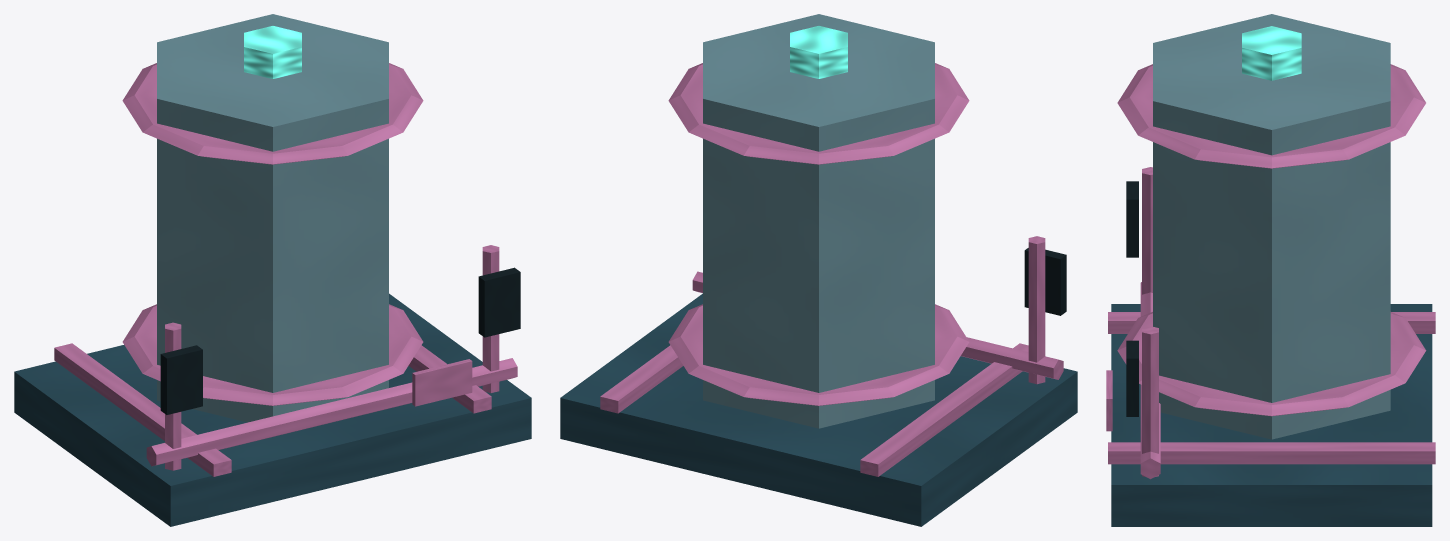
Rendered from atlas100-s069-a04.lod1.glb.
3 views of the same model, side by side, from view 1: azimuth 30°, elevation 25°; view 2: azimuth 150°, elevation 25°; view 3: azimuth 270°, elevation 25° (orthographic). The views are drawn at different scales.
Parts seen in each view (by area): view 1: atlas100-s069-a04:part-003, atlas100-s069-a04:part-000, atlas100-s069-a04:part-005, atlas100-s069-a04:part-004, atlas100-s069-a04:part-011, atlas100-s069-a04:part-001, atlas100-s069-a04:part-006, atlas100-s069-a04:part-008, atlas100-s069-a04:part-010, atlas100-s069-a04:part-012, atlas100-s069-a04:part-009, atlas100-s069-a04:part-007 (+1 smaller); view 2: atlas100-s069-a04:part-003, atlas100-s069-a04:part-000, atlas100-s069-a04:part-004, atlas100-s069-a04:part-005, atlas100-s069-a04:part-001, atlas100-s069-a04:part-006, atlas100-s069-a04:part-007, atlas100-s069-a04:part-002, atlas100-s069-a04:part-011, atlas100-s069-a04:part-008; view 3: atlas100-s069-a04:part-003, atlas100-s069-a04:part-000, atlas100-s069-a04:part-005, atlas100-s069-a04:part-002, atlas100-s069-a04:part-004, atlas100-s069-a04:part-006, atlas100-s069-a04:part-009, atlas100-s069-a04:part-007, atlas100-s069-a04:part-001, atlas100-s069-a04:part-011, atlas100-s069-a04:part-008, atlas100-s069-a04:part-010 (+1 smaller).
Boxes of the visible parts, bbox=[...] form: atlas100-s069-a04:part-003: bbox=[157, 14, 388, 422]; atlas100-s069-a04:part-000: bbox=[14, 293, 531, 526]; atlas100-s069-a04:part-005: bbox=[122, 63, 423, 164]; atlas100-s069-a04:part-004: bbox=[122, 304, 423, 405]; atlas100-s069-a04:part-011: bbox=[146, 358, 517, 466]; atlas100-s069-a04:part-001: bbox=[54, 343, 231, 476]; atlas100-s069-a04:part-006: bbox=[244, 26, 301, 78]; atlas100-s069-a04:part-008: bbox=[160, 345, 202, 414]; atlas100-s069-a04:part-010: bbox=[478, 267, 520, 337]; atlas100-s069-a04:part-012: bbox=[412, 359, 472, 406]; atlas100-s069-a04:part-009: bbox=[482, 245, 499, 392]; atlas100-s069-a04:part-007: bbox=[165, 322, 181, 470]; atlas100-s069-a04:part-003: bbox=[703, 14, 934, 428]; atlas100-s069-a04:part-000: bbox=[560, 293, 1077, 526]; atlas100-s069-a04:part-004: bbox=[668, 304, 969, 405]; atlas100-s069-a04:part-005: bbox=[668, 63, 969, 164]; atlas100-s069-a04:part-001: bbox=[860, 343, 1028, 476]; atlas100-s069-a04:part-006: bbox=[790, 26, 847, 78]; atlas100-s069-a04:part-007: bbox=[1028, 236, 1045, 384]; atlas100-s069-a04:part-002: bbox=[600, 345, 683, 413]; atlas100-s069-a04:part-011: bbox=[692, 271, 1063, 379]; atlas100-s069-a04:part-008: bbox=[1024, 248, 1066, 315]; atlas100-s069-a04:part-003: bbox=[1153, 14, 1390, 439]; atlas100-s069-a04:part-000: bbox=[1111, 304, 1432, 526]; atlas100-s069-a04:part-005: bbox=[1117, 64, 1425, 168]; atlas100-s069-a04:part-002: bbox=[1108, 442, 1435, 464]; atlas100-s069-a04:part-004: bbox=[1117, 312, 1426, 416]; atlas100-s069-a04:part-006: bbox=[1242, 26, 1301, 80]; atlas100-s069-a04:part-009: bbox=[1142, 326, 1158, 476]; atlas100-s069-a04:part-007: bbox=[1142, 167, 1152, 294]; atlas100-s069-a04:part-001: bbox=[1108, 312, 1435, 333]; atlas100-s069-a04:part-011: bbox=[1140, 282, 1160, 479]; atlas100-s069-a04:part-008: bbox=[1126, 181, 1138, 257]; atlas100-s069-a04:part-010: bbox=[1126, 340, 1138, 416].
Size of the model in its own units: 2.4 by 2.45 by 1.85.
Materials: 5 (5 with a texture image).
